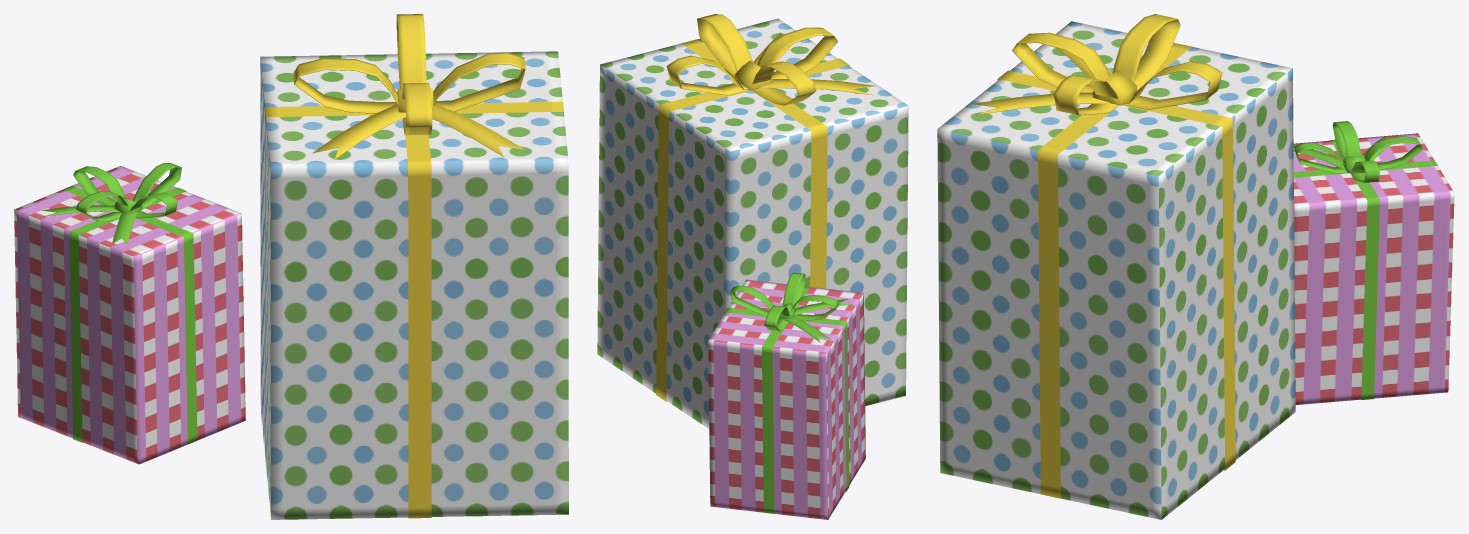
Rendered from Paket_9.glb.
The picture shows the model from 3 angles, left to right: view 1: azimuth 30°, elevation 25°; view 2: azimuth 150°, elevation 25°; view 3: azimuth 270°, elevation 25°; orthographic projection. The views are drawn at different scales.
Visible parts, largest first — view 1: Paket.009; view 2: Paket.009; view 3: Paket.009.
Boxes of the visible parts, bbox=[...] form: Paket.009: bbox=[14, 14, 568, 519]; Paket.009: bbox=[597, 14, 908, 519]; Paket.009: bbox=[937, 14, 1454, 519].
Size of the model in its own units: 1.16 by 1.11 by 1.3.
Materials: 4 (2 with a texture image).
